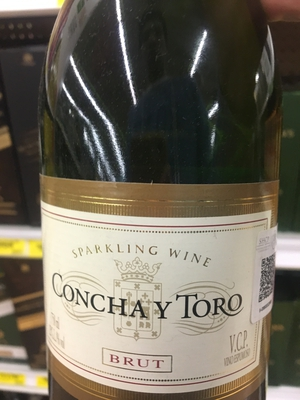brut: (40, 12, 276, 400)
